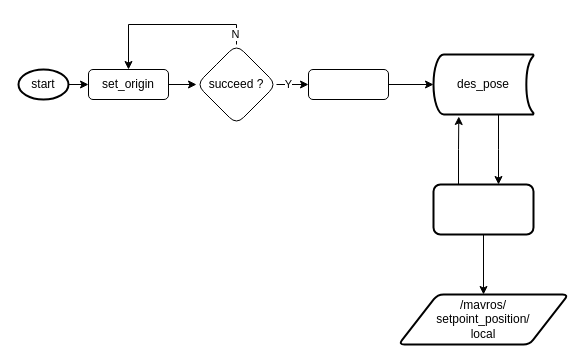
The diagram is 586 pixels wide and 363 high, and some of its shapes have lost their labels. The shapes that lost their labels are listed below. From the top down, each one's box as (x1, y1, x2, y2) in pixels, then its label:
(308, 68, 388, 100): align_beam
(432, 183, 534, 235): ctrl_thread
